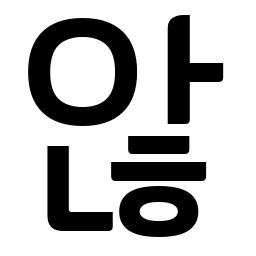Gaji: (157, 52, 204, 97)
